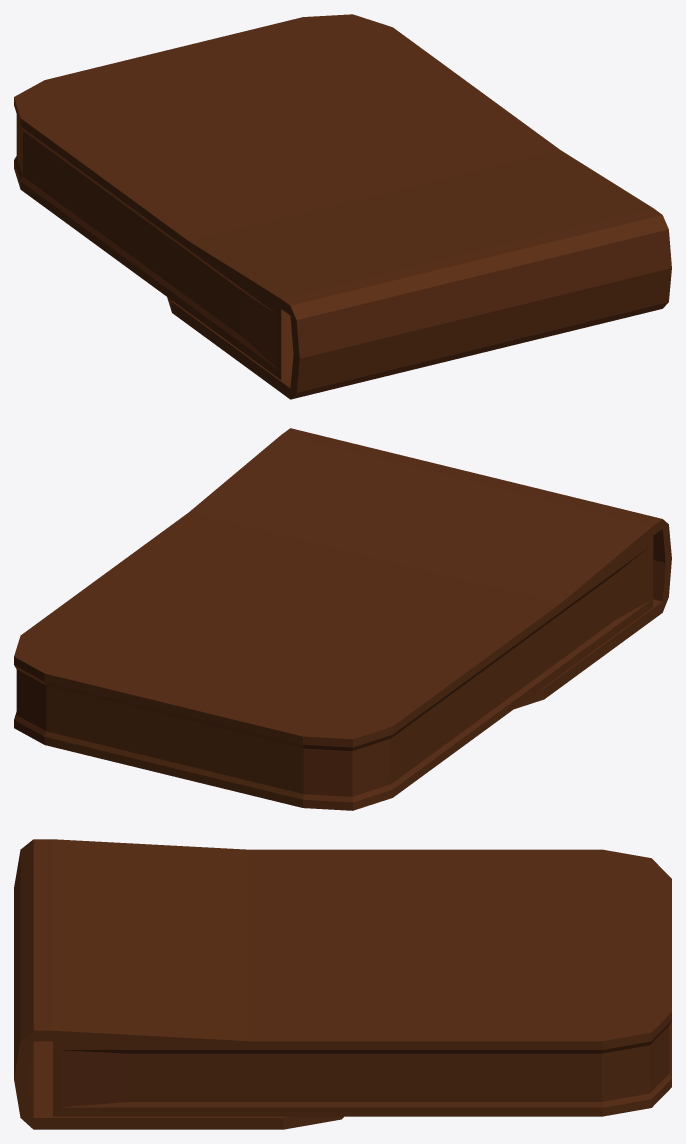
Rendered from Satchel.glb.
3 renders of one model, top to bottom at view 1: azimuth 30°, elevation 25°; view 2: azimuth 150°, elevation 25°; view 3: azimuth 270°, elevation 25°, orthographic. The views are drawn at different scales.
Parts seen in each view (by area): view 1: Satchel; view 2: Satchel; view 3: Satchel.
Part boxes in pixels (x1,y1,x2,y2): Satchel: [14, 14, 671, 399]; Satchel: [14, 428, 671, 810]; Satchel: [14, 839, 671, 1129].
Bounding box in the file's own units: 0.1391 × 0.0397 × 0.202.
1 material, 1 textured.
